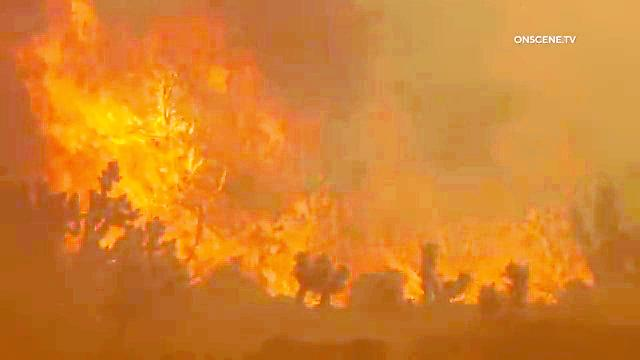fire: (61, 25, 268, 274)
